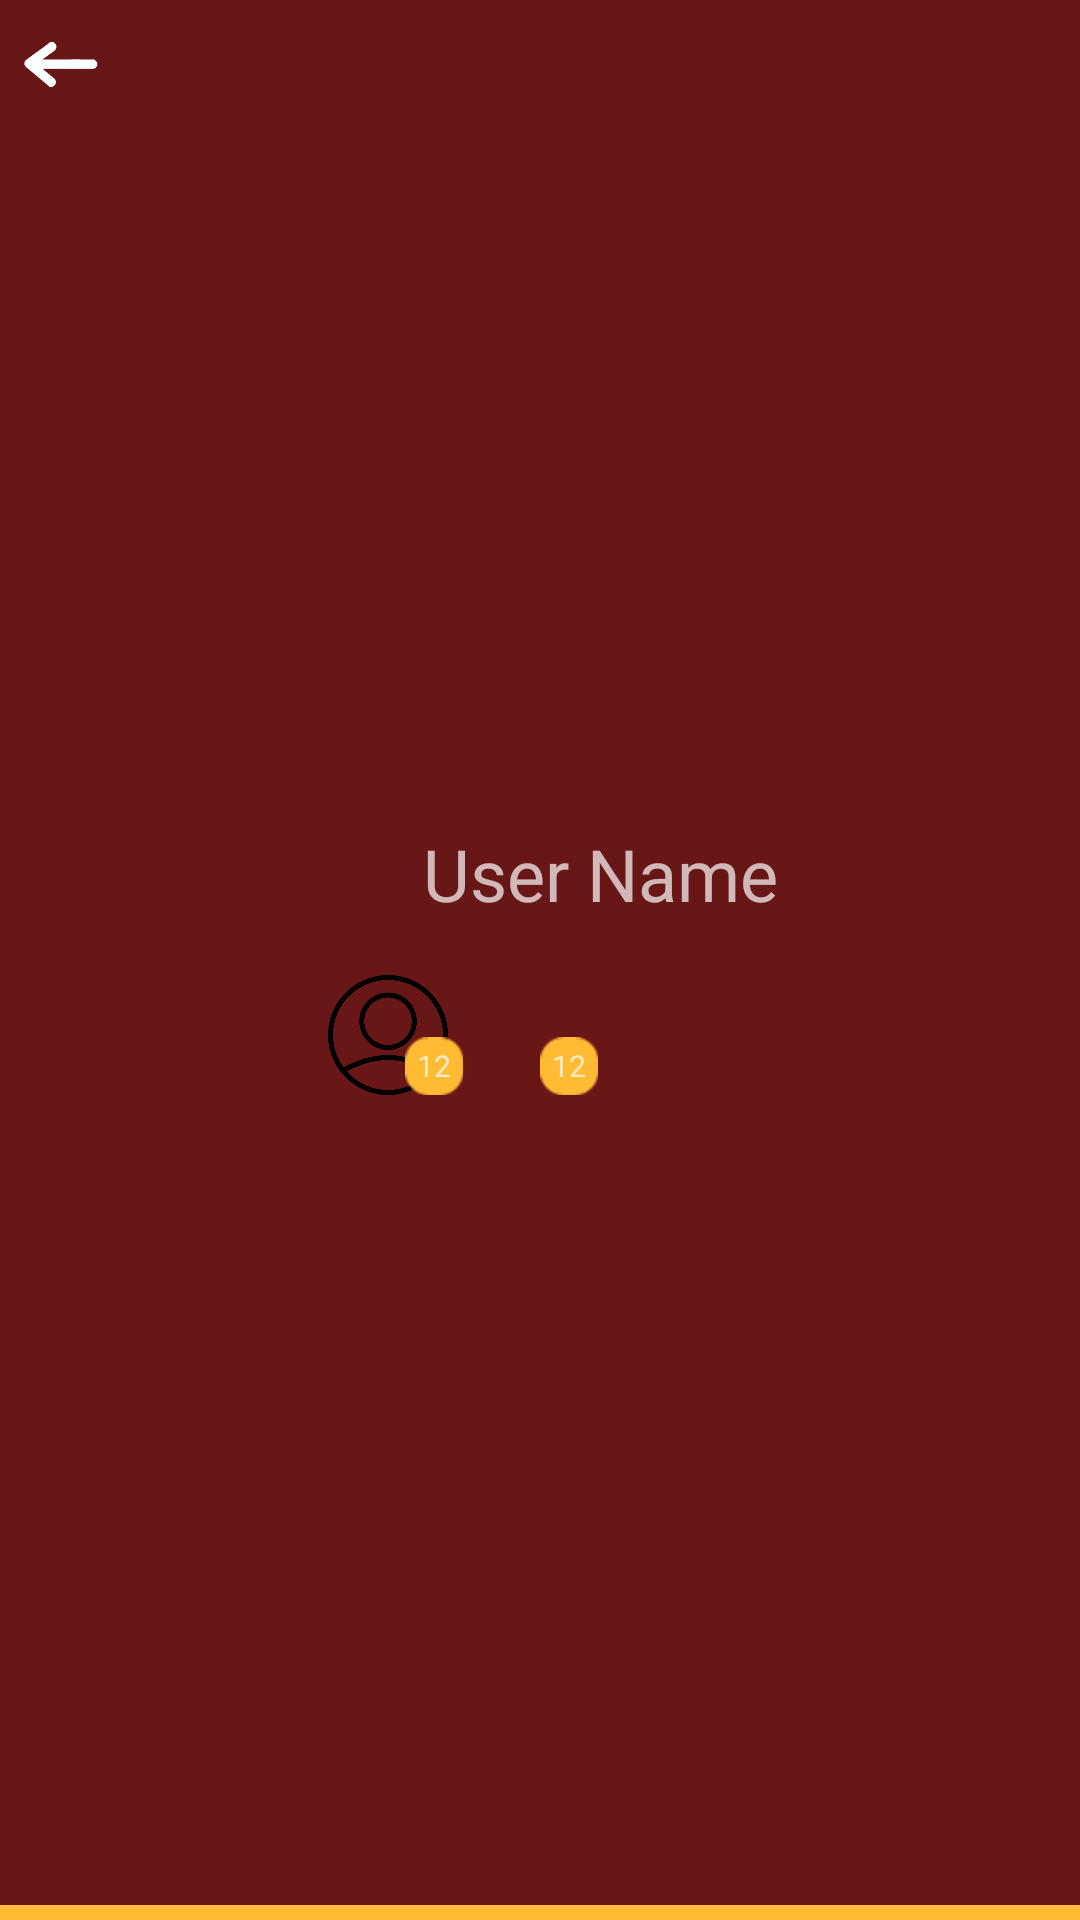

Screen size 1080×1920. Icon name, then its center in pixels as (x=x, y=y):
back: (x=61, y=64)
